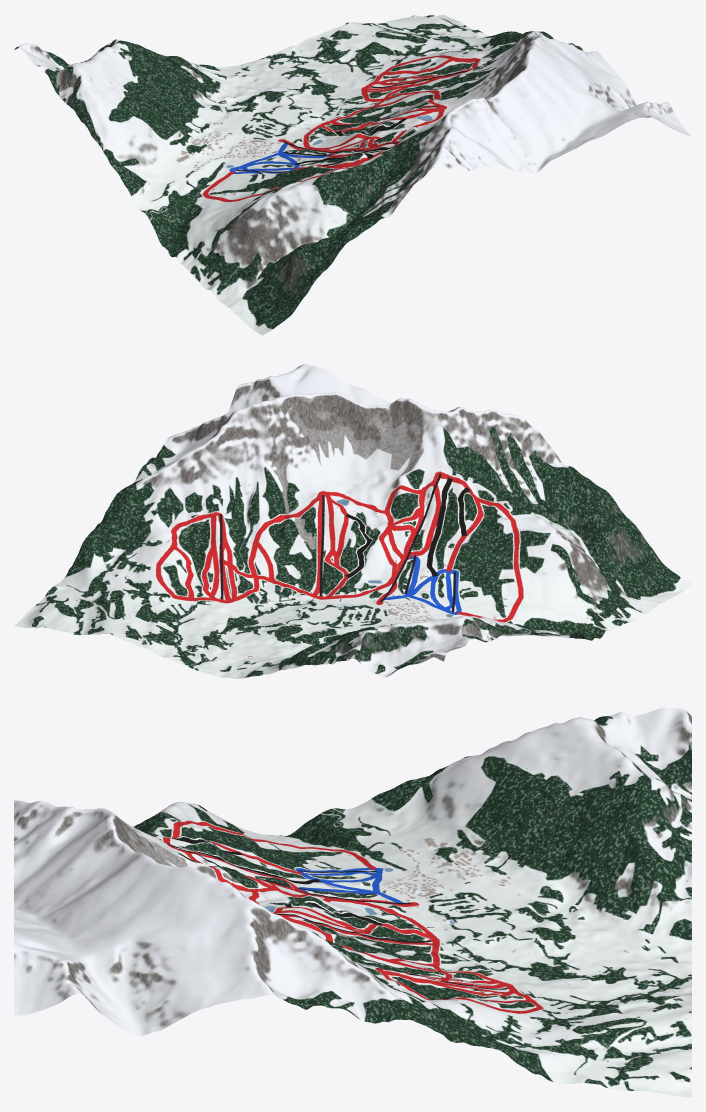
The picture shows the model from 3 angles, top to bottom: view 1: azimuth 30°, elevation 25°; view 2: azimuth 150°, elevation 25°; view 3: azimuth 270°, elevation 25°; orthographic projection. The views are drawn at different scales.
Parts seen in each view (by area): view 1: D2_Oberjoch.glb; view 2: D2_Oberjoch.glb; view 3: D2_Oberjoch.glb.
Boxes of the visible parts, x1,y1,x2,y2 form: D2_Oberjoch.glb: [14, 14, 691, 335]; D2_Oberjoch.glb: [14, 364, 691, 678]; D2_Oberjoch.glb: [14, 707, 691, 1097].
Size of the model in its own units: 3852 by 1340 by 3852.
1 material, 1 textured.
